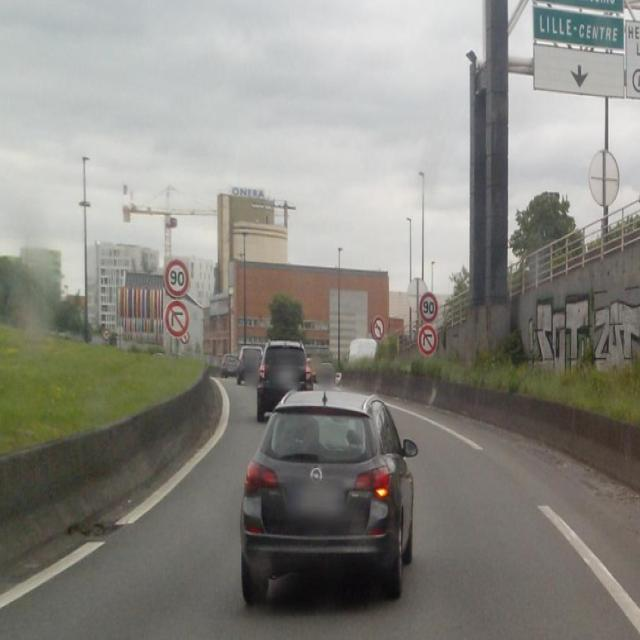speed_90: (164, 260, 190, 297), (419, 292, 437, 323)
